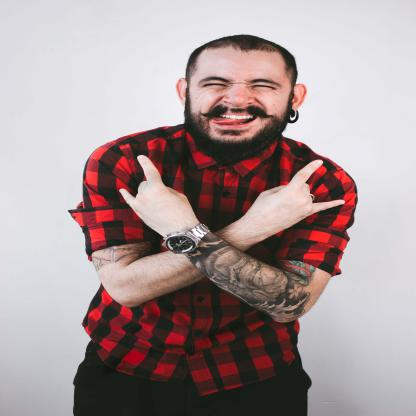Eye: (203, 82, 228, 89), (250, 84, 276, 90)
Mouth: (212, 113, 258, 129)
Nose: (222, 87, 254, 107)
